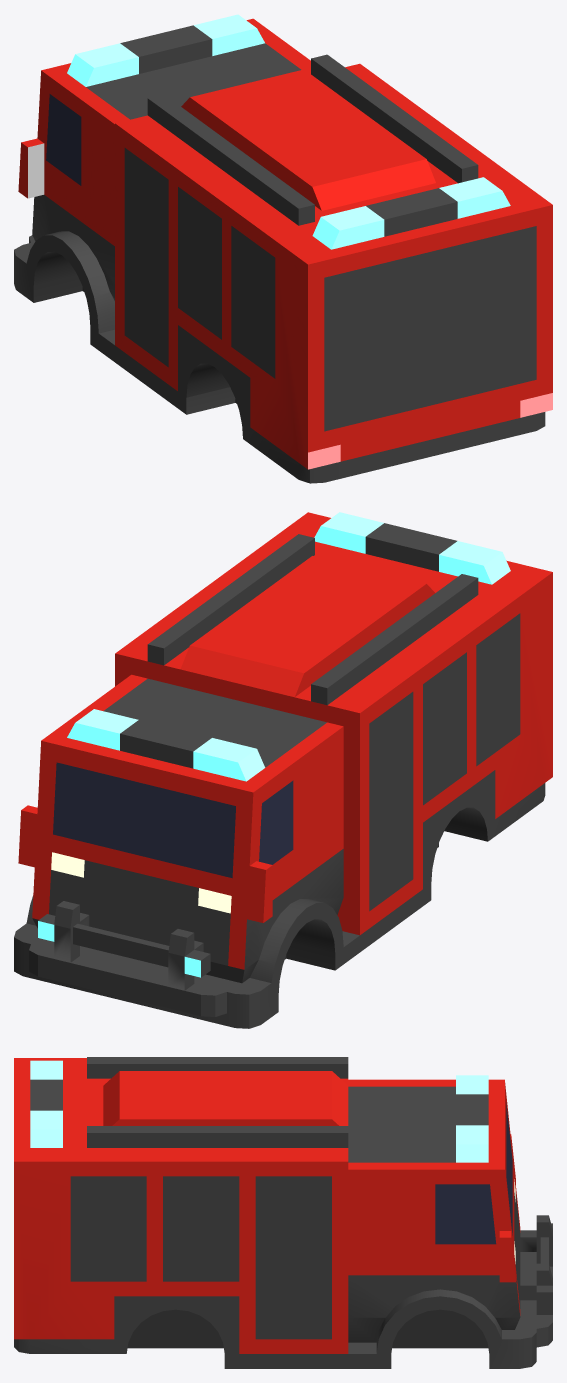
The model's file is SM_Firetruck_Body.fbx.
3 renders of one model, top to bottom at view 1: azimuth 30°, elevation 25°; view 2: azimuth 150°, elevation 25°; view 3: azimuth 270°, elevation 25°, orthographic. The views are drawn at different scales.
Parts seen in each view (by area): view 1: SM_Firetruck_Body; view 2: SM_Firetruck_Body; view 3: SM_Firetruck_Body.
Part boxes in pixels (x1,y1,x2,y2): SM_Firetruck_Body: (14,14,552,483); SM_Firetruck_Body: (14,512,552,1028); SM_Firetruck_Body: (14,1057,552,1368).
Bounding box in the file's own units: 1.5 × 1.5 × 3.3.
